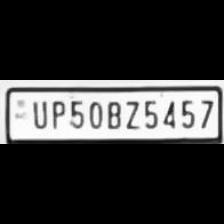0: (84, 97, 104, 129)
4: (159, 96, 177, 130)
5: (176, 96, 196, 128), (140, 96, 158, 130), (65, 97, 84, 129)
7: (196, 96, 216, 128)
B: (104, 97, 122, 129)
P: (47, 97, 65, 129)
U: (28, 97, 48, 129)
Z: (121, 97, 139, 130)
